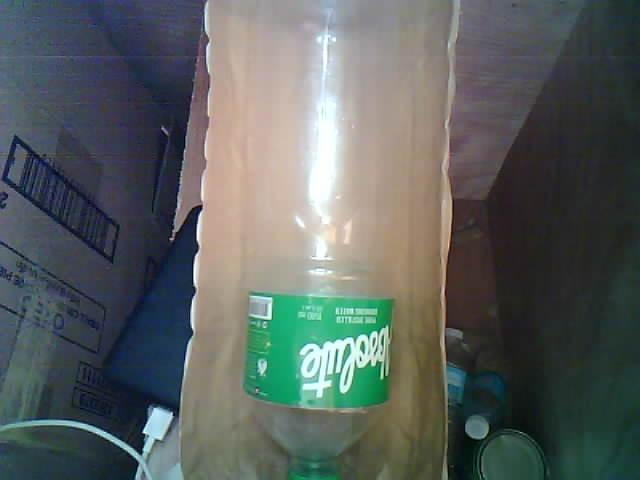large_bottle: (228, 0, 416, 480)
